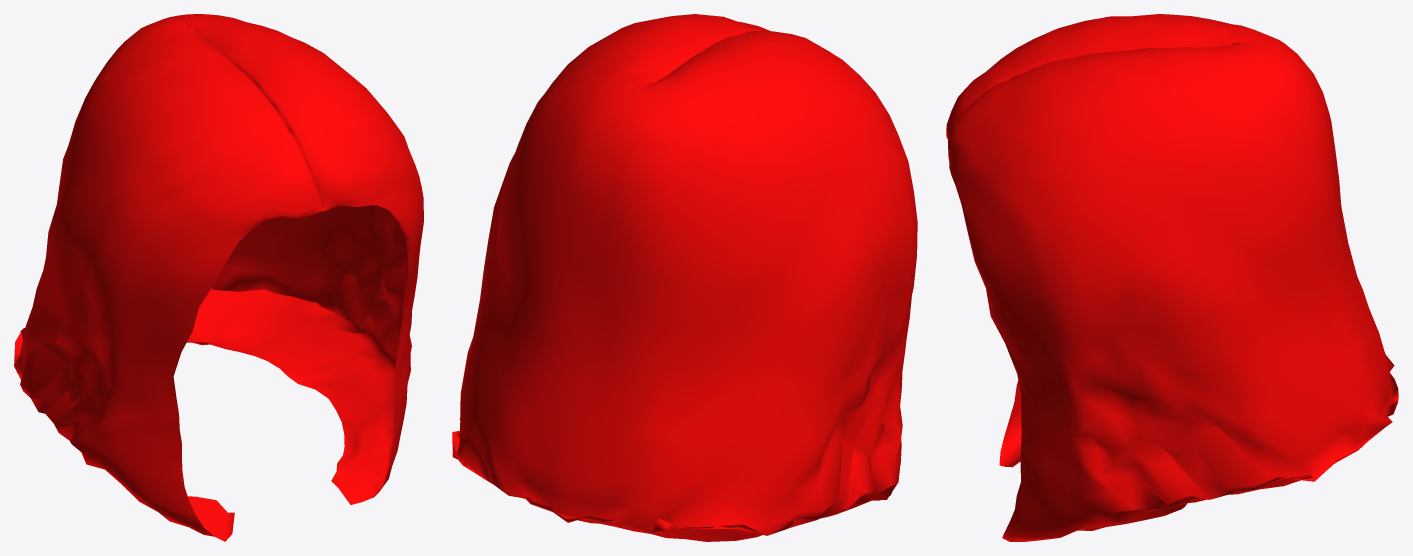
File: toigo_curled_under_bob_F.glb
3 renders of one model, left to right at view 1: azimuth 30°, elevation 25°; view 2: azimuth 150°, elevation 25°; view 3: azimuth 270°, elevation 25°, orthographic. The views are drawn at different scales.
Bounding box in the file's own units: 0.1948 × 0.2398 × 0.211.
Materials: 1 (1 with a texture image).
